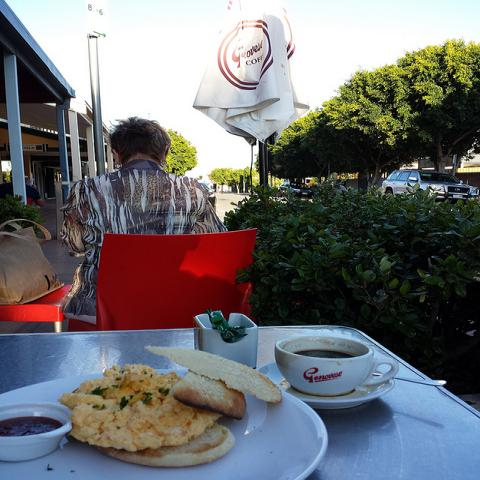car: (383, 170, 478, 199)
